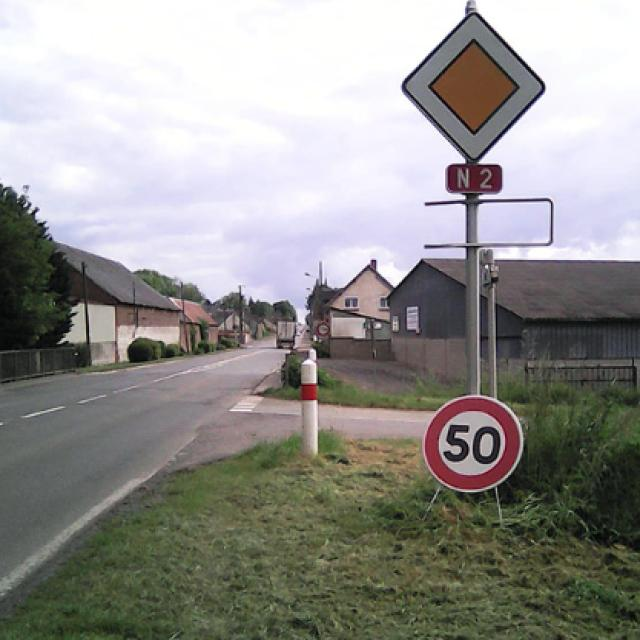speed_50: (423, 393, 524, 494)
